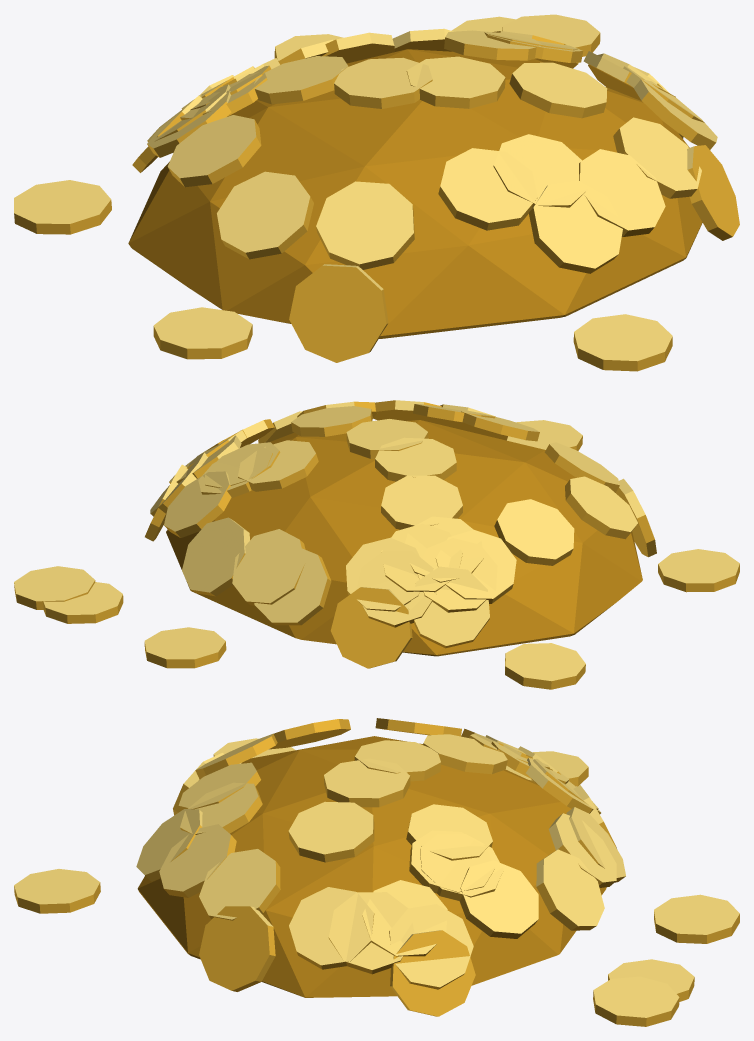
File: Res_CoinPile.fbx
3 renders of one model, top to bottom at view 1: azimuth 30°, elevation 25°; view 2: azimuth 150°, elevation 25°; view 3: azimuth 270°, elevation 25°, orthographic. The views are drawn at different scales.
Visible parts, largest first — view 1: Res_CoinPile; view 2: Res_CoinPile; view 3: Res_CoinPile.
Part boxes in pixels (x1,y1,x2,y2): Res_CoinPile: (14,14,739,371); Res_CoinPile: (14,400,739,689); Res_CoinPile: (14,718,739,1026).
Size of the model in its own units: 0.8949 by 0.2171 by 0.9915.
